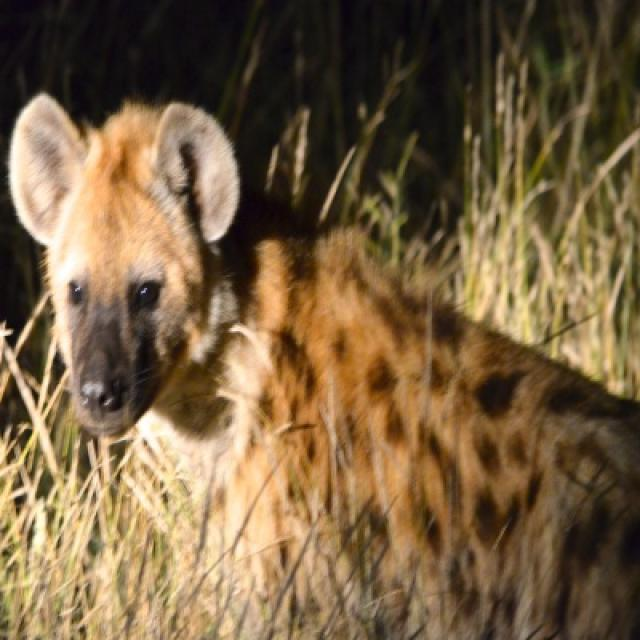hyena: (8, 94, 638, 638)
